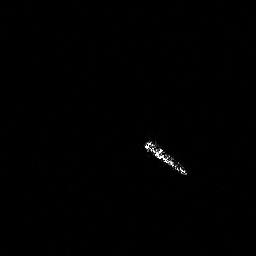ship: (145, 140, 188, 176)
